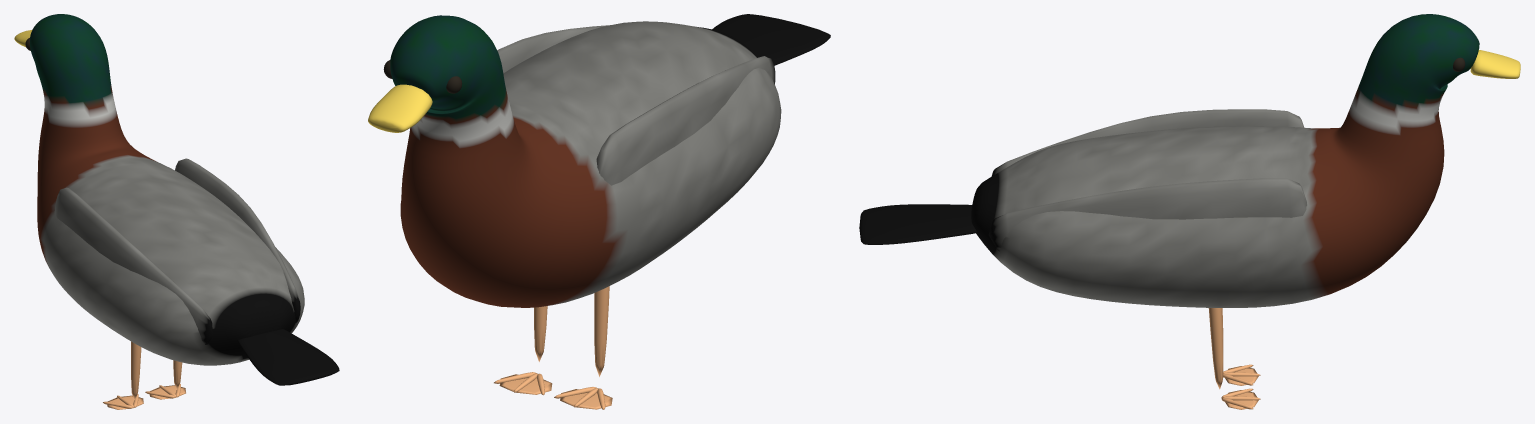
The model's file is duck_standing.gltf.
3 views of the same model, side by side, from view 1: azimuth 30°, elevation 25°; view 2: azimuth 150°, elevation 25°; view 3: azimuth 270°, elevation 25° (orthographic). The views are drawn at different scales.
Visible parts, largest first — view 1: duck; view 2: duck; view 3: duck.
Boxes of the visible parts, left/top/right/bottom form: duck: left=14, top=14, right=339, bottom=409; duck: left=368, top=14, right=830, bottom=409; duck: left=859, top=14, right=1520, bottom=409.
Bounding box in the file's own units: 0.2448 × 0.4479 × 0.7237.
